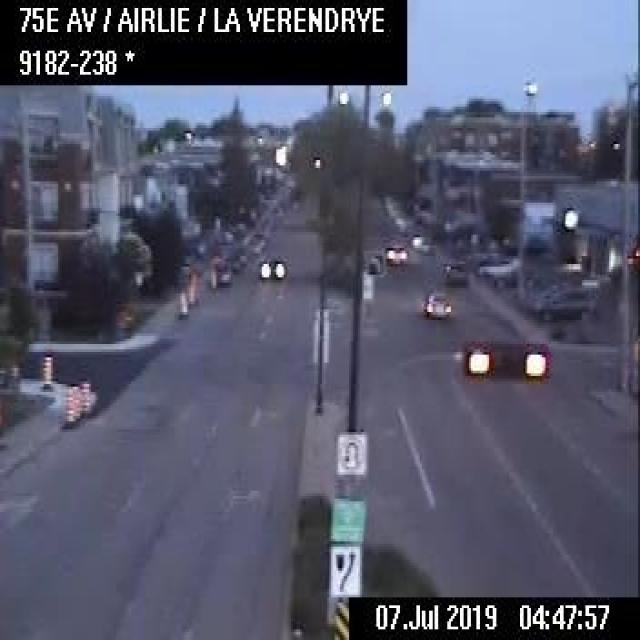construction: (60, 384, 73, 426), (40, 352, 51, 386), (70, 382, 80, 418), (186, 272, 196, 304), (79, 379, 88, 413), (177, 287, 186, 316), (208, 258, 216, 290)
vehicle: (530, 283, 595, 320), (476, 248, 516, 284), (420, 286, 453, 318), (256, 250, 286, 282), (442, 253, 467, 283), (383, 240, 407, 268), (213, 256, 231, 283)
